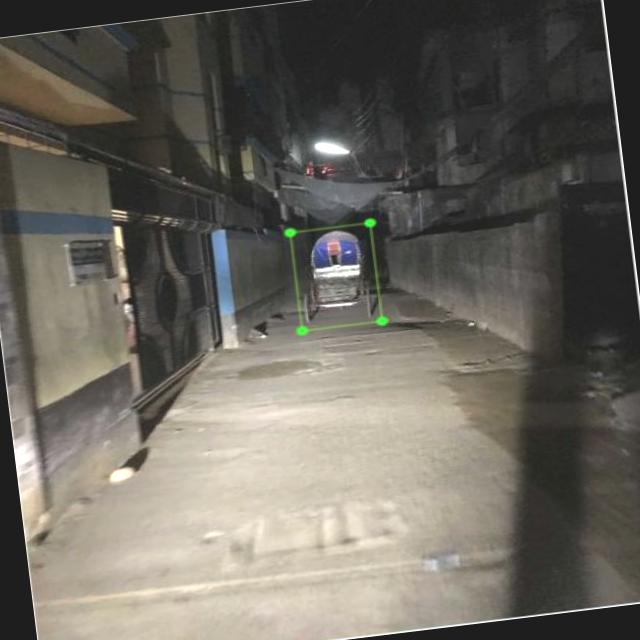motorcycle: (284, 220, 380, 330)
